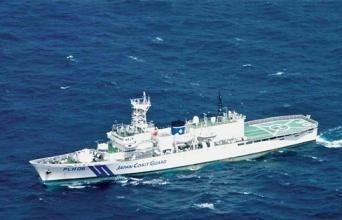warship: (29, 85, 321, 183)
